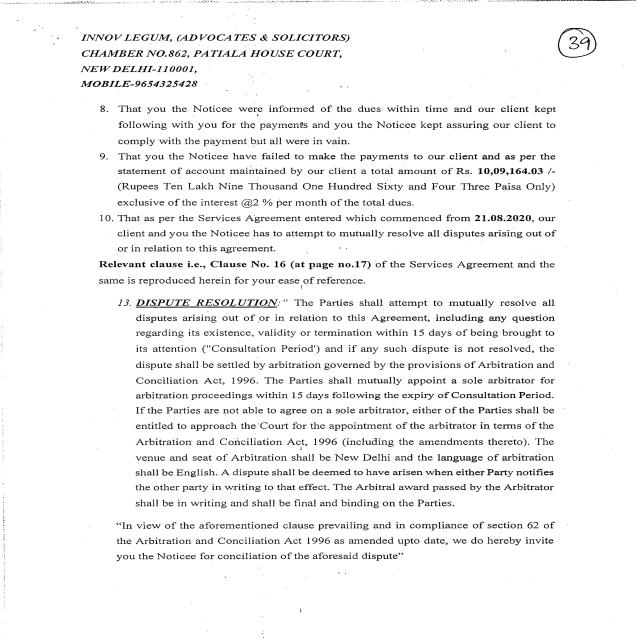page-number: (415, 8, 640, 75)
